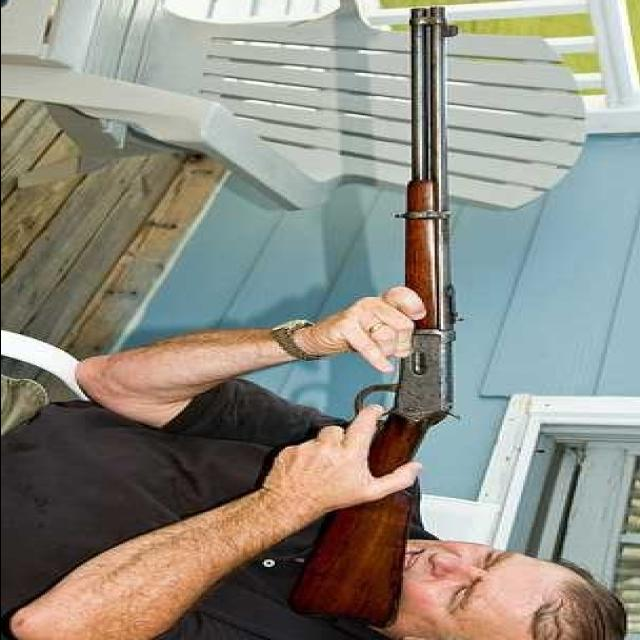heavyweapon: (260, 1, 528, 630)
